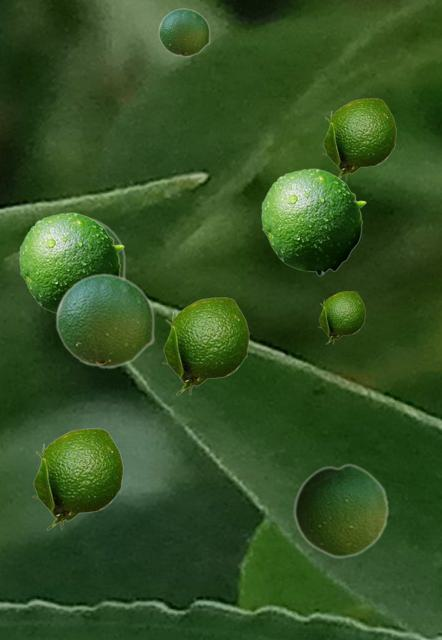dalandan: (261, 168, 365, 275), (19, 212, 123, 313), (55, 273, 154, 368), (32, 428, 122, 529), (293, 463, 388, 558), (162, 297, 248, 394), (322, 98, 395, 180), (158, 8, 209, 56), (318, 291, 364, 343), (89, 216, 125, 276)
